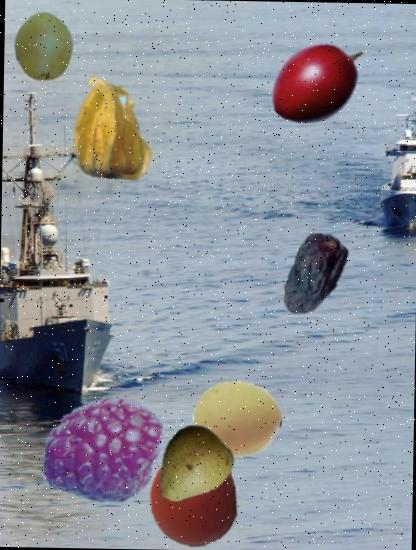Dates: (266, 228, 357, 319)
Grape: (8, 10, 80, 83)
Peach: (192, 372, 282, 464)
Pear: (148, 424, 233, 509)
Physalis: (62, 76, 166, 180)
Raspberry: (44, 390, 163, 509)
Tamarillo: (265, 28, 370, 133)
Tomato: (144, 450, 242, 548)
